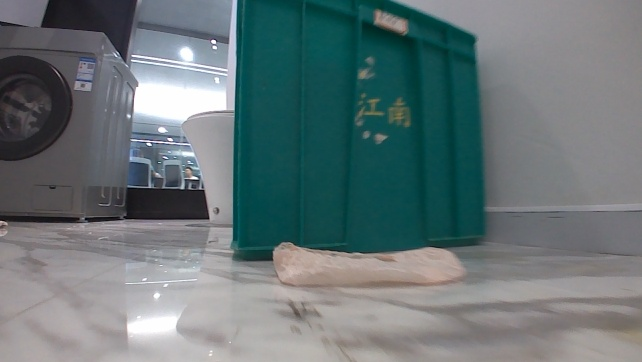socks: (268, 238, 467, 289)
toilet: (178, 106, 236, 228)
washing_machine: (0, 21, 141, 220)
